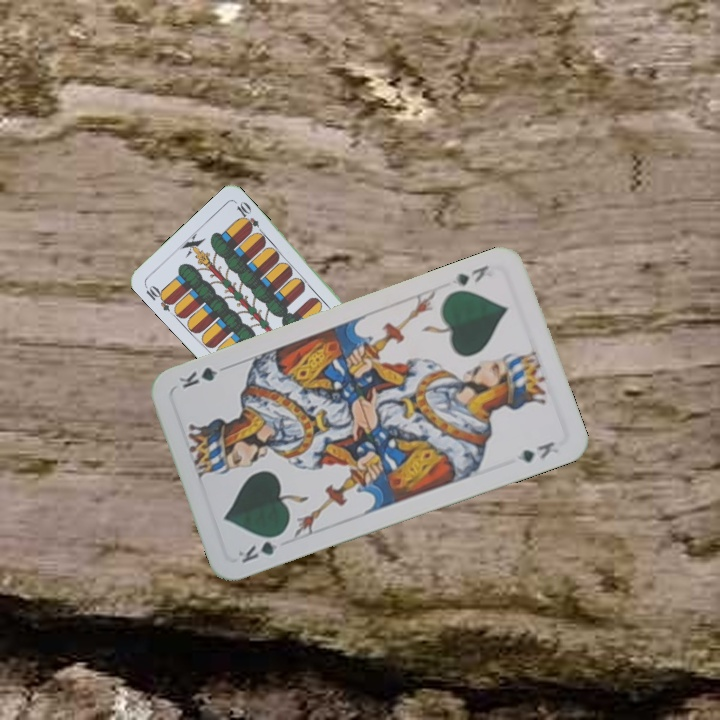E10: (141, 281, 176, 314)
GK: (234, 529, 287, 566), (448, 261, 491, 289)
